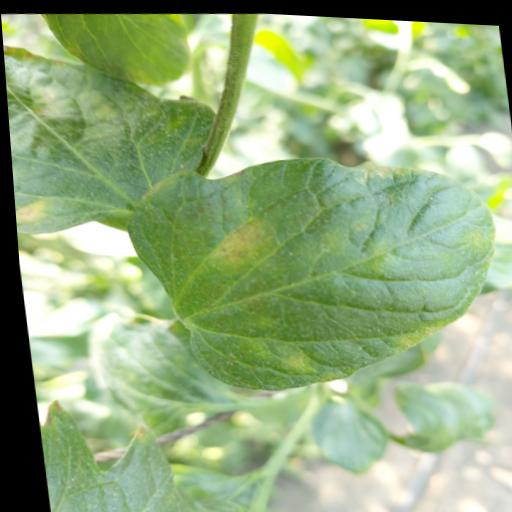Leaf Mold: (116, 136, 512, 405), (1, 25, 228, 243)
